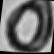correct: (2, 0, 54, 54)
